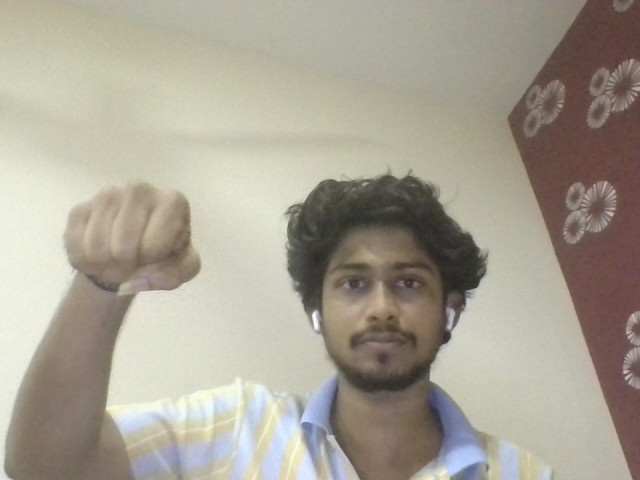yes: (58, 175, 209, 297)
